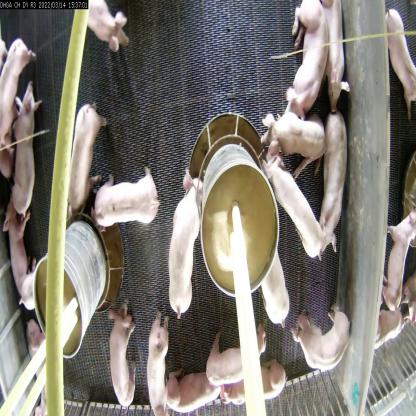Pig: (258, 140, 324, 260), (162, 167, 205, 319), (311, 104, 350, 253), (98, 298, 143, 415), (62, 92, 103, 219), (259, 99, 328, 174), (283, 3, 329, 114), (288, 306, 354, 381), (0, 27, 34, 172), (4, 79, 36, 220), (202, 320, 271, 385), (377, 6, 416, 117), (255, 235, 297, 333), (384, 197, 416, 322), (138, 304, 170, 416), (2, 205, 37, 305), (317, 0, 350, 105), (214, 363, 284, 412), (18, 313, 54, 408), (75, 0, 135, 56), (164, 375, 225, 415)
